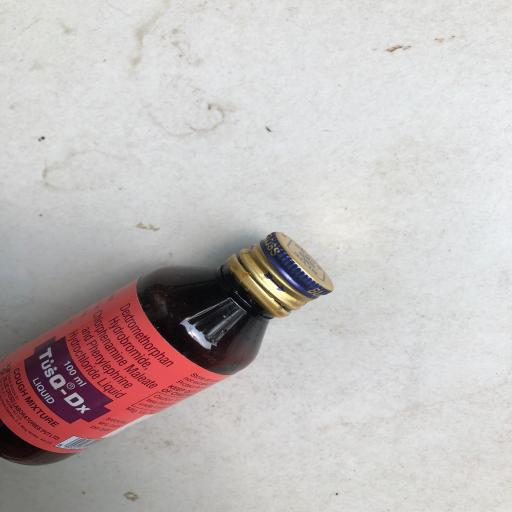waste: (4, 212, 348, 465)
